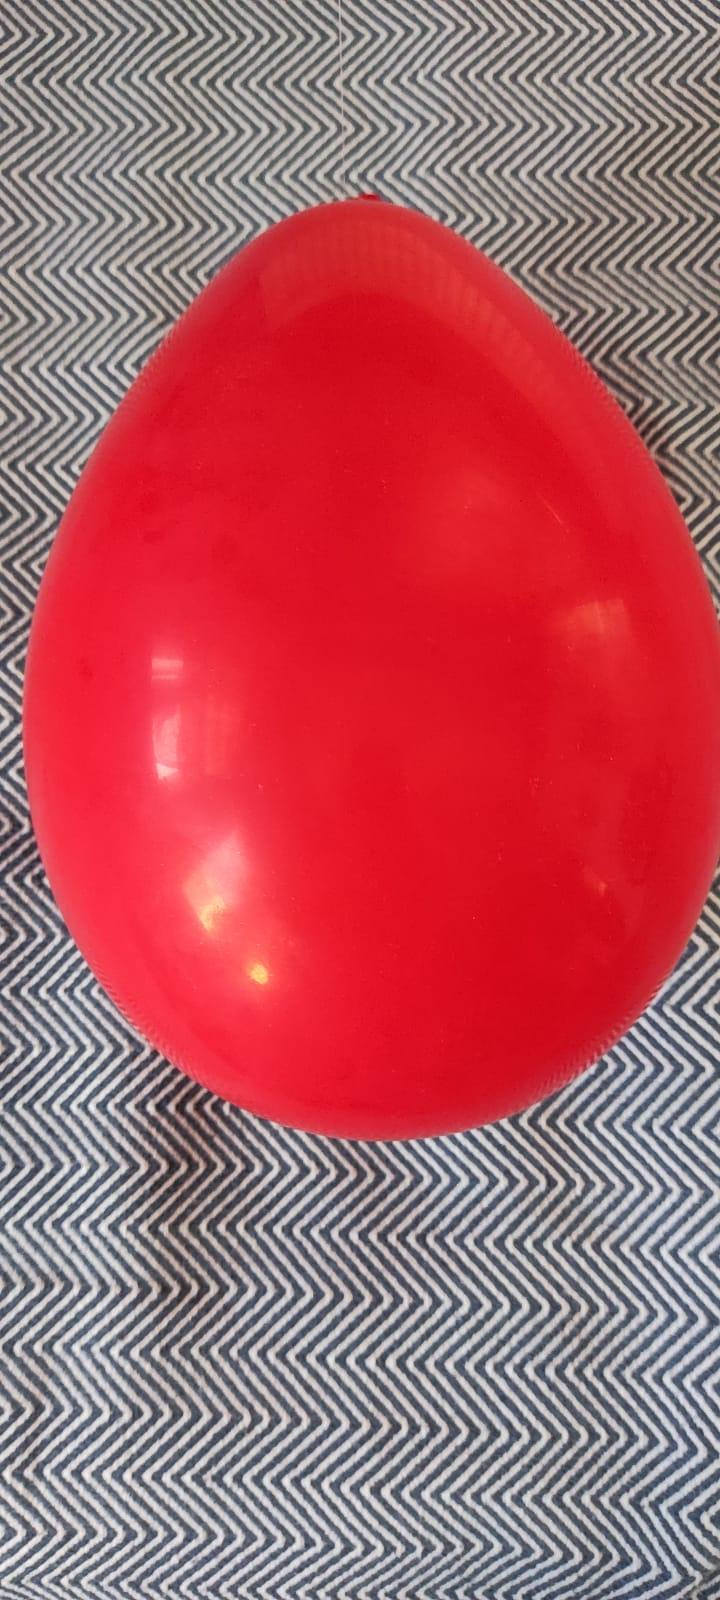red: (14, 191, 720, 1145)
